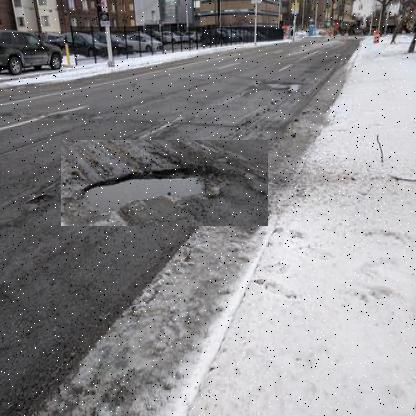pothole: (60, 140, 268, 227)
